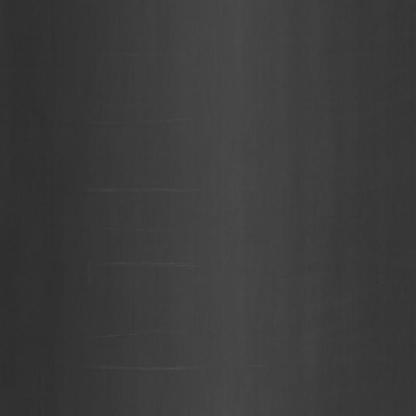waist_folding: (80, 43, 210, 394)
